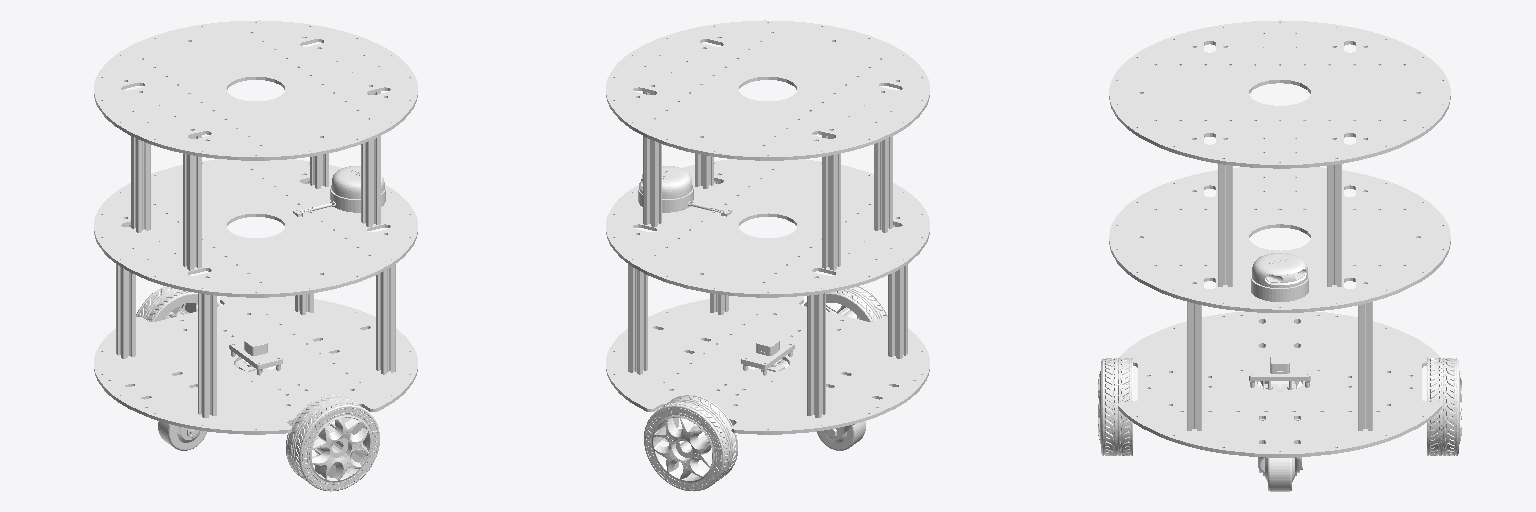
URDF robot description (diff_chassis):
<?xml version="1.0" encoding="utf-8"?>
<!-- This URDF was automatically created by SolidWorks to URDF Exporter! Originally created by Stephen Brawner (brawner@gmail.com) 
     Commit Version: 1.6.0-4-g7f85cfe  Build Version: 1.6.7995.38578
     For more information, please see http://wiki.ros.org/sw_urdf_exporter -->
<robot
  name="diff_chassis">
  <link
    name="base_link">
    <inertial>
      <origin
        xyz="-1.1656354110573E-05 0.000183990852965802 0.22278915796944"
        rpy="0 0 0" />
      <mass
        value="2.61254195972319" />
      <inertia
        ixx="0.0266884341057972"
        ixy="6.01825576408622E-09"
        ixz="-1.66641952831673E-16"
        iyy="0.0278126339472011"
        iyz="2.5998506171548E-16"
        izz="0.05262665037024" />
    </inertial>
    <visual>
      <origin
        xyz="0 0 0"
        rpy="0 0 0" />
      <geometry>
        <mesh
          filename="package://diff_chassis/meshes/base_link.STL" />
      </geometry>
      <material
        name="">
        <color
          rgba="1 1 1 1" />
      </material>
    </visual>
    <collision>
      <origin
        xyz="0 0 0"
        rpy="0 0 0" />
      <geometry>
        <mesh
          filename="package://diff_chassis/meshes/base_link.STL" />
      </geometry>
    </collision>
  </link>
  <link
    name="left_wheel_link">
    <inertial>
      <origin
        xyz="-1.3935E-05 0.21082 -9.993E-06"
        rpy="0 0 0" />
      <mass
        value="0.26255" />
      <inertia
        ixx="0.00037352"
        ixy="-1.0133E-08"
        ixz="2.0078E-08"
        iyy="0.00067104"
        iyz="-6.2659E-09"
        izz="0.0003735" />
    </inertial>
    <visual>
      <origin
        xyz="0 0 0"
        rpy="0 0 0" />
      <geometry>
        <mesh
          filename="package://diff_chassis/meshes/left_wheel_link.STL" />
      </geometry>
      <material
        name="">
        <color
          rgba="1 1 1 1" />
      </material>
    </visual>
    <collision>
      <origin
        xyz="0 0 0"
        rpy="0 0 0" />
      <geometry>
        <mesh
          filename="package://diff_chassis/meshes/left_wheel_link.STL" />
      </geometry>
    </collision>
  </link>
  <joint
    name="left_wheel_joint"
    type="continuous">
    <origin
      xyz="0 0 0"
      rpy="0 0 0" />
    <parent
      link="base_link" />
    <child
      link="left_wheel_link" />
    <axis
      xyz="0 1 0" />
  </joint>
  <link
    name="right_wheel_link">
    <inertial>
      <origin
        xyz="1.3935E-05 -0.21082 -9.993E-06"
        rpy="0 0 0" />
      <mass
        value="0.26255" />
      <inertia
        ixx="0.00037352"
        ixy="-1.0133E-08"
        ixz="-2.0078E-08"
        iyy="0.00067104"
        iyz="6.2658E-09"
        izz="0.0003735" />
    </inertial>
    <visual>
      <origin
        xyz="0 0 0"
        rpy="0 0 0" />
      <geometry>
        <mesh
          filename="package://diff_chassis/meshes/right_wheel_link.STL" />
      </geometry>
      <material
        name="">
        <color
          rgba="1 1 1 1" />
      </material>
    </visual>
    <collision>
      <origin
        xyz="0 0 0"
        rpy="0 0 0" />
      <geometry>
        <mesh
          filename="package://diff_chassis/meshes/right_wheel_link.STL" />
      </geometry>
    </collision>
  </link>
  <joint
    name="right_wheel_joint"
    type="continuous">
    <origin
      xyz="0 0 0"
      rpy="0 0 0" />
    <parent
      link="base_link" />
    <child
      link="right_wheel_link" />
    <axis
      xyz="0 -1 0" />
  </joint>
  <link
    name="imu_link">
    <inertial>
      <origin
        xyz="-4.3059E-05 -3.8457E-05 6.5969E-05"
        rpy="0 0 0" />
      <mass
        value="0.0084514" />
      <inertia
        ixx="5.5797E-07"
        ixy="-4.5178E-09"
        ixz="-1.0965E-09"
        iyy="5.5744E-07"
        iyz="-9.5552E-10"
        izz="8.203E-07" />
    </inertial>
    <visual>
      <origin
        xyz="0 0 0"
        rpy="0 0 0" />
      <geometry>
        <mesh
          filename="package://diff_chassis/meshes/imu_link.STL" />
      </geometry>
      <material
        name="">
        <color
          rgba="1 1 1 1" />
      </material>
    </visual>
    <collision>
      <origin
        xyz="0 0 0"
        rpy="0 0 0" />
      <geometry>
        <mesh
          filename="package://diff_chassis/meshes/imu_link.STL" />
      </geometry>
    </collision>
  </link>
  <joint
    name="imu_link_fixed"
    type="fixed">
    <origin
      xyz="0 0 0.06025"
      rpy="0 0 0" />
    <parent
      link="base_link" />
    <child
      link="imu_link" />
    <axis
      xyz="0 0 0" />
  </joint>
  <link
    name="lidar_link">
    <inertial>
      <origin
        xyz="-0.027502 -0.0095289 -0.01058"
        rpy="0 0 0" />
      <mass
        value="0.043546" />
      <inertia
        ixx="1.644E-05"
        ixy="7.0416E-07"
        ixz="-1.0864E-07"
        iyy="1.4426E-05"
        iyz="-5.4088E-08"
        izz="2.939E-05" />
    </inertial>
    <visual>
      <origin
        xyz="0 0 0"
        rpy="0 0 0" />
      <geometry>
        <mesh
          filename="package://diff_chassis/meshes/lidar_link.STL" />
      </geometry>
      <material
        name="">
        <color
          rgba="1 1 1 1" />
      </material>
    </visual>
    <collision>
      <origin
        xyz="0 0 0"
        rpy="0 0 0" />
      <geometry>
        <mesh
          filename="package://diff_chassis/meshes/lidar_link.STL" />
      </geometry>
    </collision>
  </link>
  <joint
    name="lidar_link_fixed"
    type="fixed">
    <origin
      xyz="0.18861 0.010699 0.27193"
      rpy="0 0 -0.00015987" />
    <parent
      link="base_link" />
    <child
      link="lidar_link" />
    <axis
      xyz="0 0 0" />
  </joint>
  <link
    name="footprint_link">
    <inertial>
      <origin
        xyz="-1.9429E-16 -2.7686E-15 0.047559"
        rpy="0 0 0" />
      <mass
        value="0.33768" />
      <inertia
        ixx="0.0001239"
        ixy="-2.414E-11"
        ixz="-1.2722E-19"
        iyy="0.00016335"
        iyz="4.7264E-19"
        izz="0.00016066" />
    </inertial>
    <visual>
      <origin
        xyz="0 0 0"
        rpy="0 0 0" />
      <geometry>
        <mesh
          filename="package://diff_chassis/meshes/footprint_link.STL" />
      </geometry>
      <material
        name="">
        <color
          rgba="1 1 1 1" />
      </material>
    </visual>
    <collision>
      <origin
        xyz="0 0 0"
        rpy="0 0 0" />
      <geometry>
        <mesh
          filename="package://diff_chassis/meshes/footprint_link.STL" />
      </geometry>
    </collision>
  </link>
  <joint
    name="footprint_link_fixed"
    type="fixed">
    <origin
      xyz="0 0 -0.0618"
      rpy="0 0 0" />
    <parent
      link="base_link" />
    <child
      link="footprint_link" />
    <axis
      xyz="0 0 0" />
  </joint>
</robot>

--- Facts derived from the render (not from the file) ---
3 views of the same robot in one strip: view 1: azimuth 30°, elevation 25°; view 2: azimuth 150°, elevation 25°; view 3: azimuth 270°, elevation 25° (orthographic).
Model diff_chassis with 6 links and 5 joints (2 continuous, 3 fixed), rooted at base_link, posed all joints at 0.
Visible links, largest first — view 1: base_link, right_wheel_link, lidar_link, left_wheel_link, footprint_link; view 2: base_link, left_wheel_link, lidar_link, right_wheel_link, footprint_link; view 3: base_link, left_wheel_link, right_wheel_link, lidar_link, footprint_link.
Link boxes in pixels (<box>): base_link: <box>94,20,417,434</box>; right_wheel_link: <box>286,395,379,491</box>; lidar_link: <box>293,166,385,216</box>; left_wheel_link: <box>136,286,219,321</box>; footprint_link: <box>158,421,206,450</box>; base_link: <box>606,20,929,434</box>; left_wheel_link: <box>644,395,737,491</box>; lidar_link: <box>638,166,731,216</box>; right_wheel_link: <box>804,286,887,321</box>; footprint_link: <box>817,421,865,450</box>; base_link: <box>1109,20,1450,457</box>; left_wheel_link: <box>1427,358,1461,455</box>; right_wheel_link: <box>1098,358,1132,455</box>; lidar_link: <box>1251,253,1308,301</box>; footprint_link: <box>1258,322,1302,491</box>.
Size in the robot's own frame: 0.44 by 0.4678 by 0.509 metres.
Meshes: 6 distinct files referenced, 6 mesh visuals loaded (6 binary STL).
